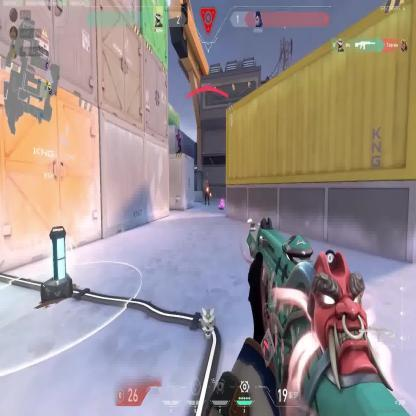enemy: (176, 127, 182, 156), (204, 178, 210, 206)
enemy_head: (205, 179, 209, 186), (178, 129, 180, 136)
